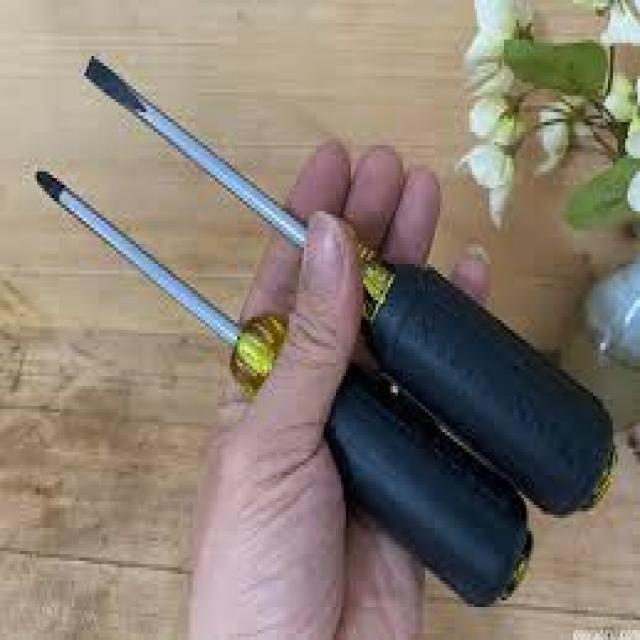screwdriver: (82, 49, 626, 512), (32, 167, 536, 612)
